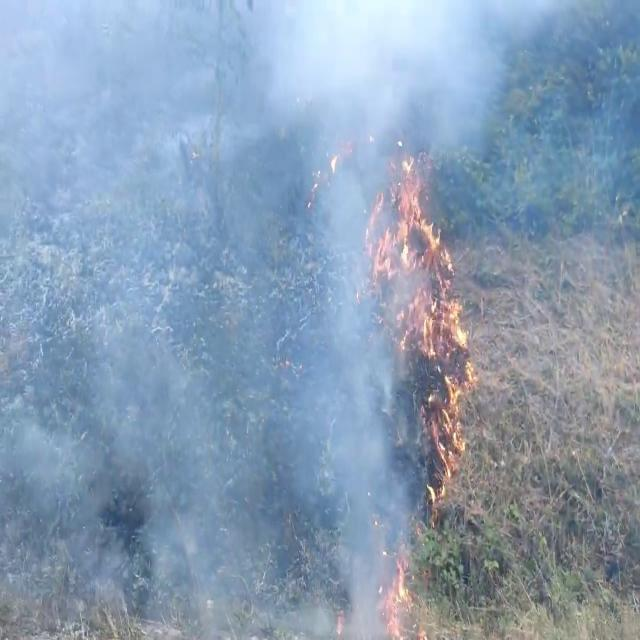Fire: (386, 120, 476, 462), (374, 534, 432, 640)
Smoke: (8, 5, 430, 636)
